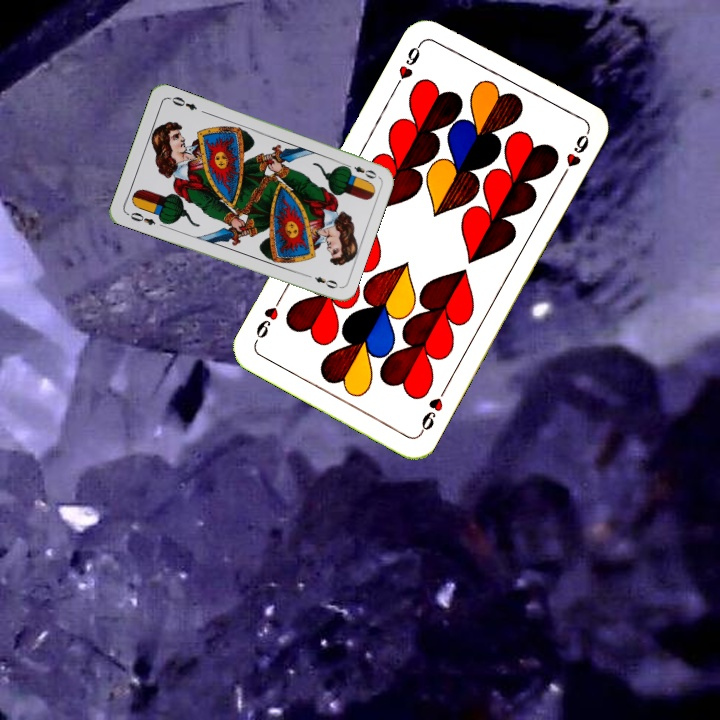EO: (340, 159, 379, 181), (123, 208, 158, 228)
H9: (390, 37, 425, 92), (416, 382, 450, 437)
